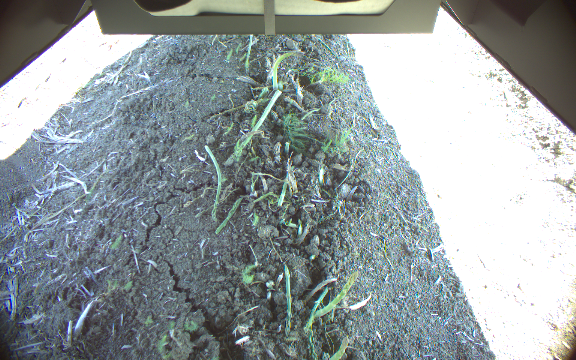aspa: (310, 269, 358, 321), (271, 52, 292, 91), (327, 335, 351, 359)
